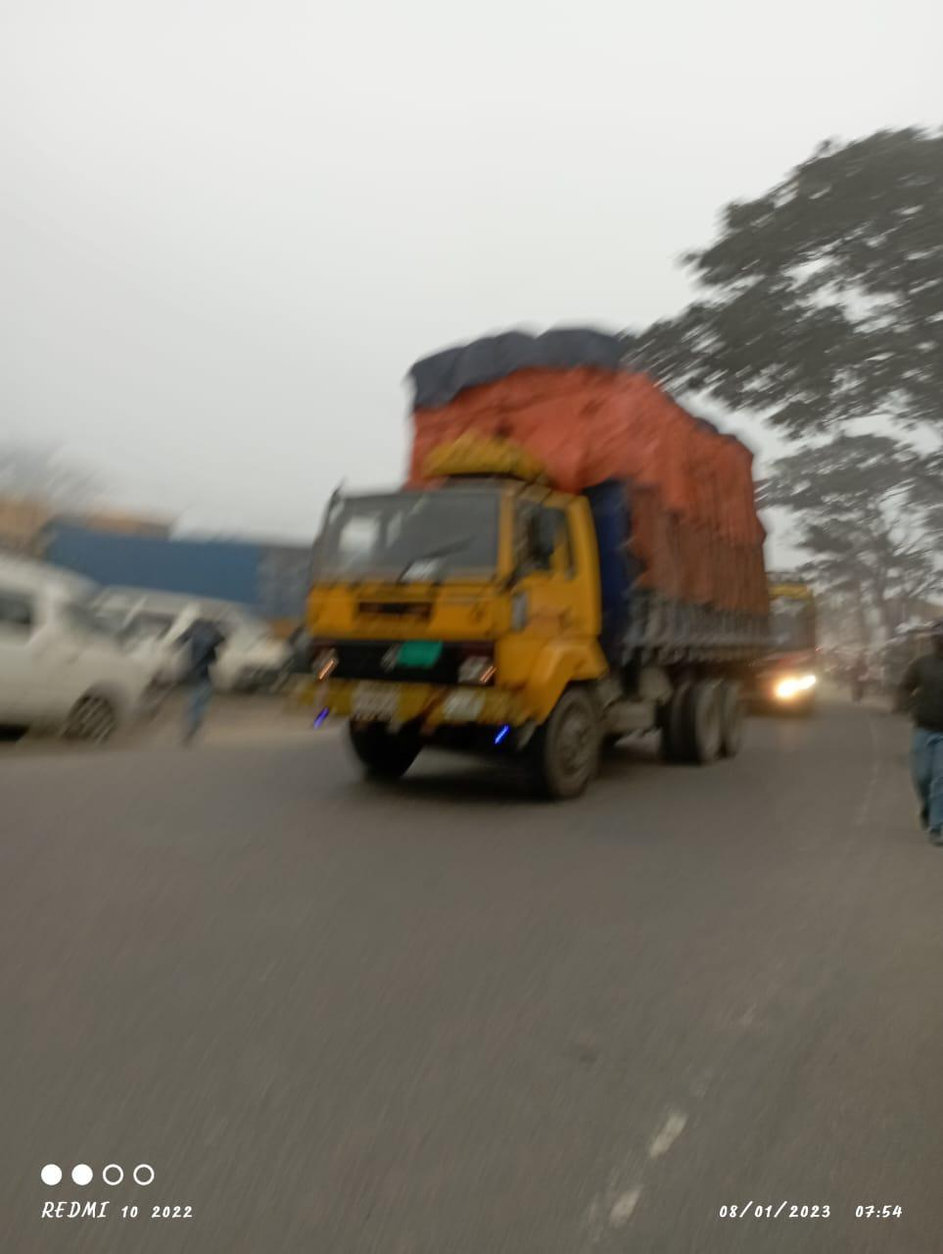Bus: (761, 561, 826, 718)
Car: (3, 540, 137, 748)
Truck: (267, 329, 774, 791)
